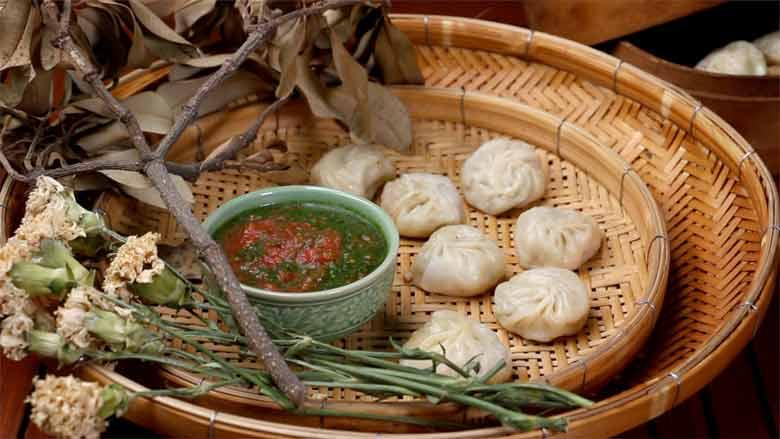momos: (404, 309, 513, 383), (494, 267, 590, 340), (460, 140, 547, 215), (413, 225, 504, 296), (381, 172, 465, 238), (515, 206, 602, 269), (311, 146, 395, 199)
